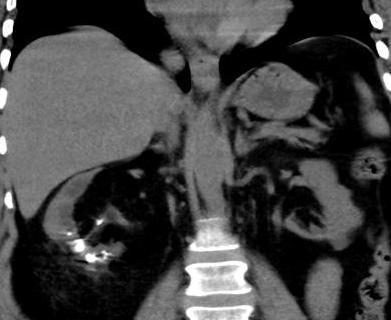Tas_Var: (84, 252, 99, 265), (73, 241, 86, 254), (96, 217, 105, 225), (66, 230, 74, 238), (74, 238, 84, 242), (104, 251, 111, 255), (102, 256, 108, 260), (102, 250, 105, 254)
